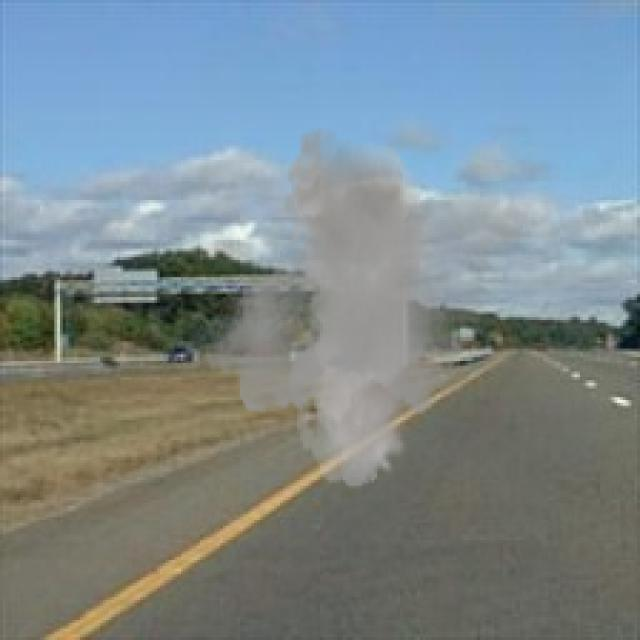Smoke: (195, 126, 540, 488)
